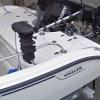Boat: (0, 4, 98, 100)
